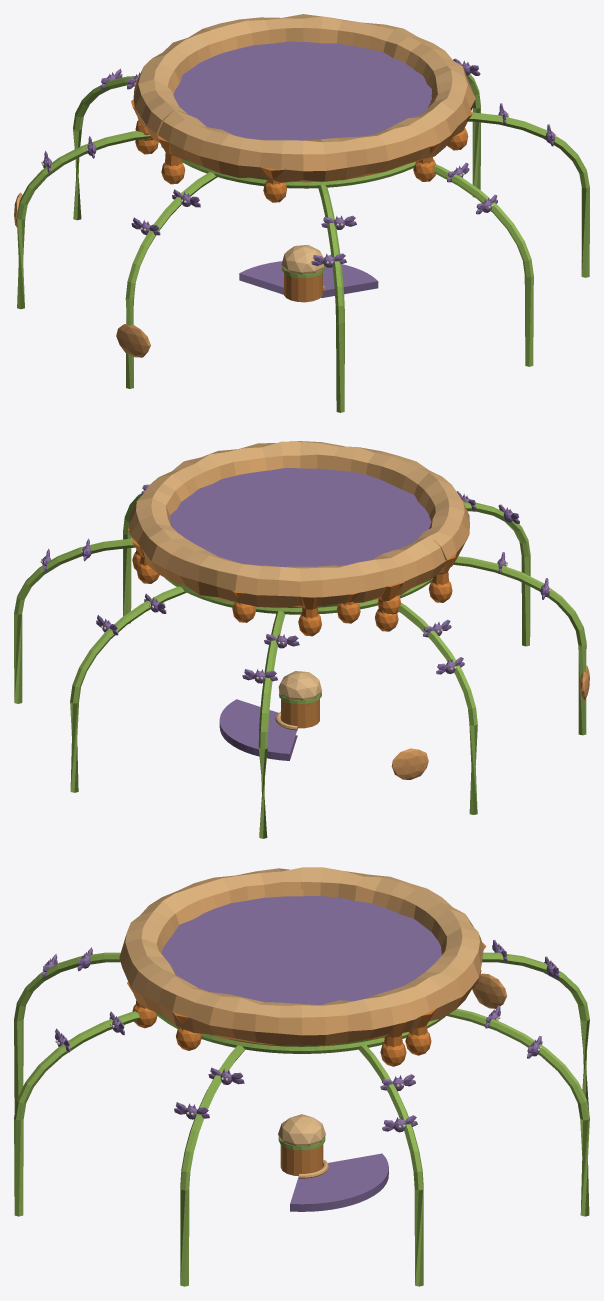
File: goo_jar_trim_4_top@haunted.fbx
3 renders of one model, top to bottom at view 1: azimuth 30°, elevation 25°; view 2: azimuth 150°, elevation 25°; view 3: azimuth 270°, elevation 25°, orthographic. The views are drawn at different scales.
Visible parts, largest first — view 1: goo_jar_trim_4_top; view 2: goo_jar_trim_4_top; view 3: goo_jar_trim_4_top.
Boxes of the visible parts, x1,y1,x2,y2 form: goo_jar_trim_4_top: (14,14,589,412); goo_jar_trim_4_top: (14,441,589,838); goo_jar_trim_4_top: (14,867,589,1286).
Size of the model in its own units: 41.08 by 18.79 by 40.75.
